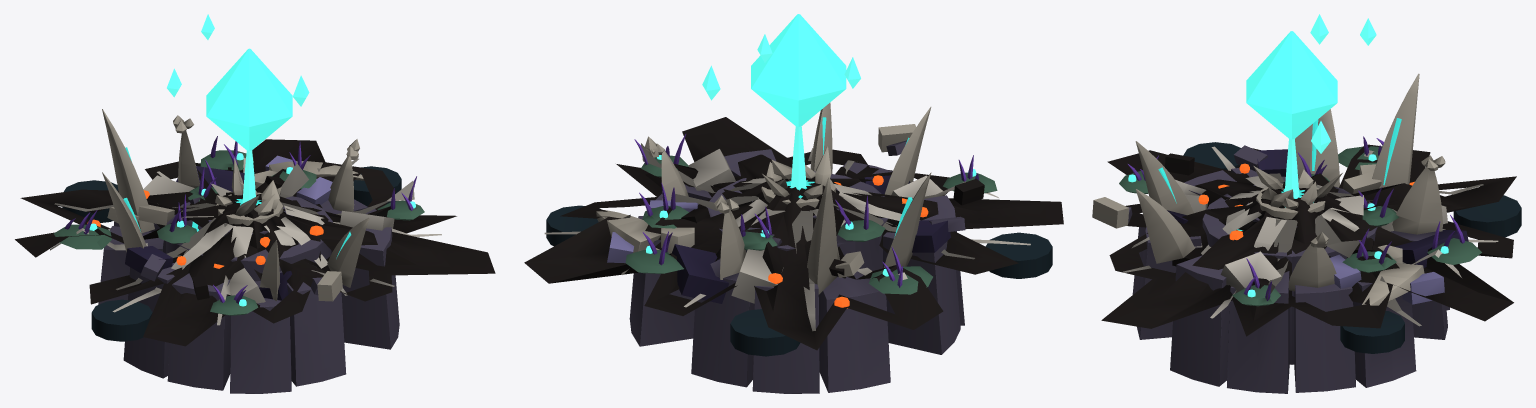
The model's file is prism-reactor-nacre.glb.
3 views of the same model, side by side, from view 1: azimuth 30°, elevation 25°; view 2: azimuth 150°, elevation 25°; view 3: azimuth 270°, elevation 25° (orthographic). The views are drawn at different scales.
Parts seen in each view (by area): view 1: site_prism_reactor_nacre_body, site_prism_reactor_nacre_ruin, site_prism_reactor_nacre_core; view 2: site_prism_reactor_nacre_body, site_prism_reactor_nacre_ruin, site_prism_reactor_nacre_core; view 3: site_prism_reactor_nacre_body, site_prism_reactor_nacre_ruin, site_prism_reactor_nacre_core.
Part boxes in pixels (x1=…): site_prism_reactor_nacre_body: x1=53, y1=109, x2=424, y2=393; site_prism_reactor_nacre_ruin: x1=15, y1=139, x2=495, y2=346; site_prism_reactor_nacre_core: x1=167, y1=14, x2=309, y2=150; site_prism_reactor_nacre_body: x1=546, y1=102, x2=1052, y2=393; site_prism_reactor_nacre_ruin: x1=524, y1=117, x2=1063, y2=350; site_prism_reactor_nacre_core: x1=702, y1=14, x2=860, y2=126; site_prism_reactor_nacre_body: x1=1119, y1=73, x2=1521, y2=393; site_prism_reactor_nacre_ruin: x1=1092, y1=144, x2=1516, y2=336; site_prism_reactor_nacre_core: x1=1246, y1=14, x2=1376, y2=153.
Bounding box in the file's own units: 5.42 × 3.97 × 5.05.
